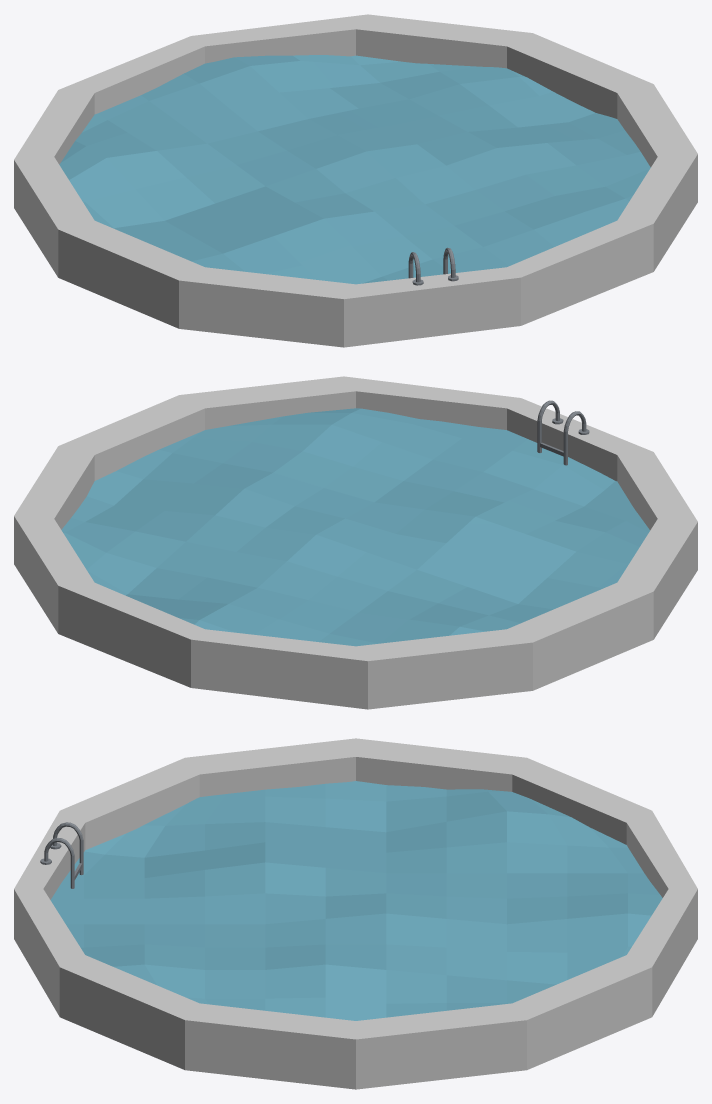
Rendered from Pool_04.fbx.
3 renders of one model, top to bottom at view 1: azimuth 30°, elevation 25°; view 2: azimuth 150°, elevation 25°; view 3: azimuth 270°, elevation 25°, orthographic. The views are drawn at different scales.
Parts seen in each view (by area): view 1: Pool_04; view 2: Pool_04; view 3: Pool_04.
Boxes of the visible parts, left/top/right/bottom form: Pool_04: left=14, top=14, right=697, bottom=347; Pool_04: left=14, top=376, right=697, bottom=709; Pool_04: left=14, top=738, right=697, bottom=1089.
Bounding box in the file's own units: 730 × 85.74 × 701.
